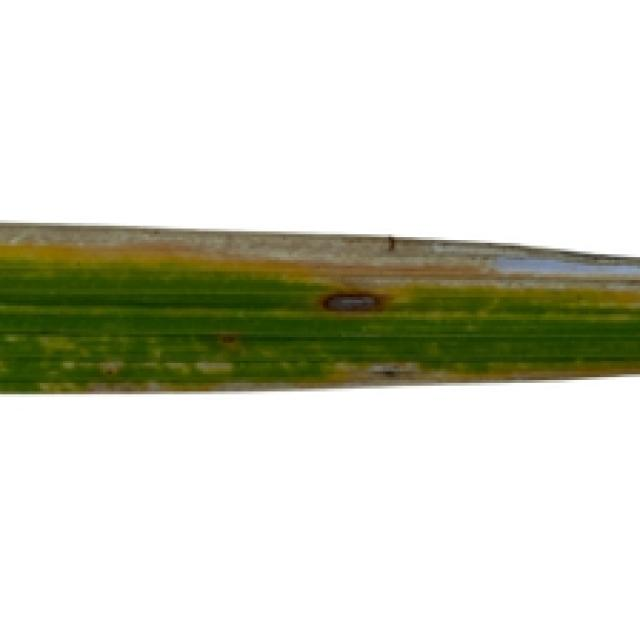Rice___Bacterial_Leaf_Blight: (0, 223, 637, 395)
